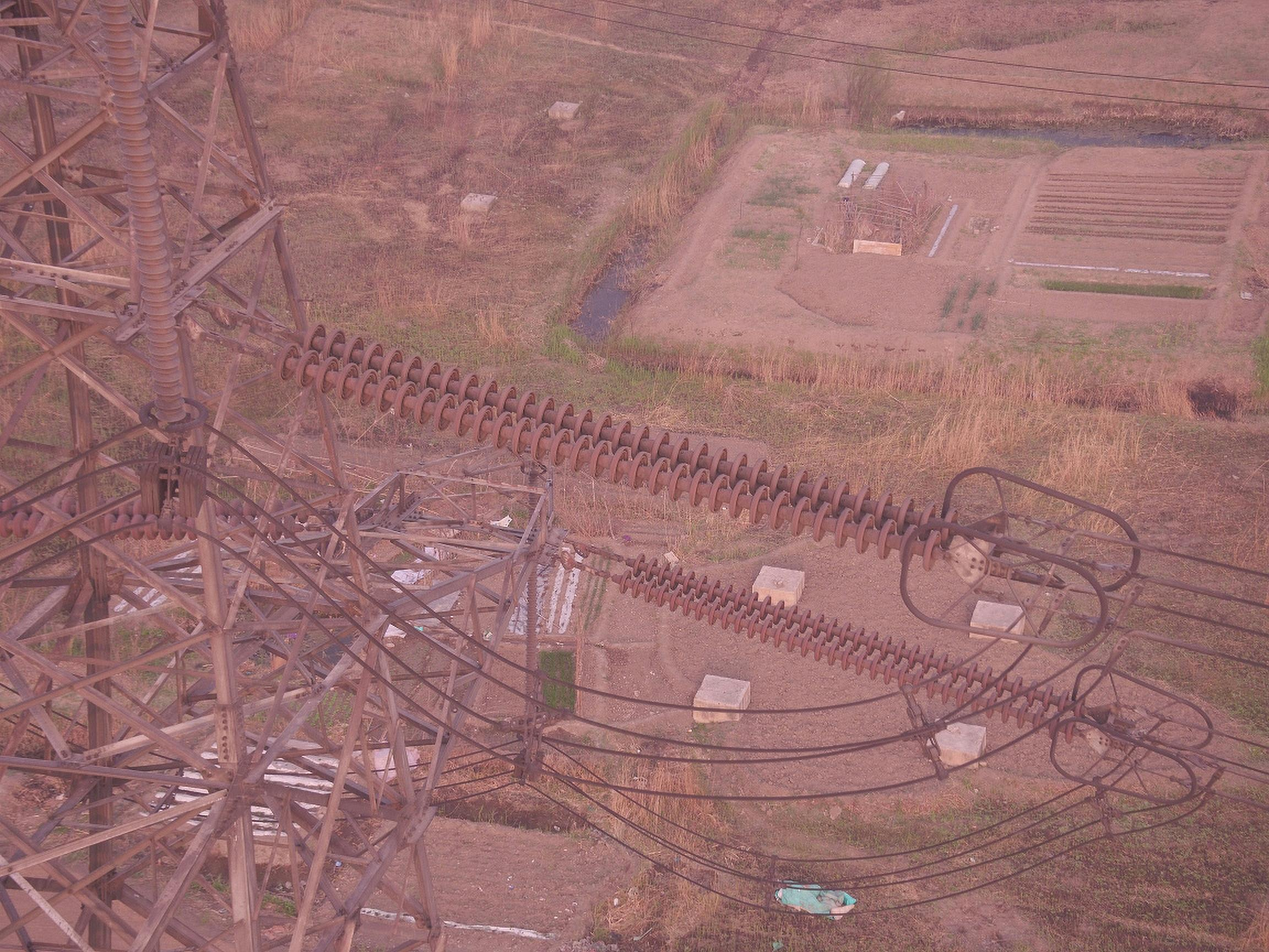insulator: (270, 320, 964, 574), (615, 550, 1089, 748), (96, 1, 191, 425), (1, 490, 312, 543)
